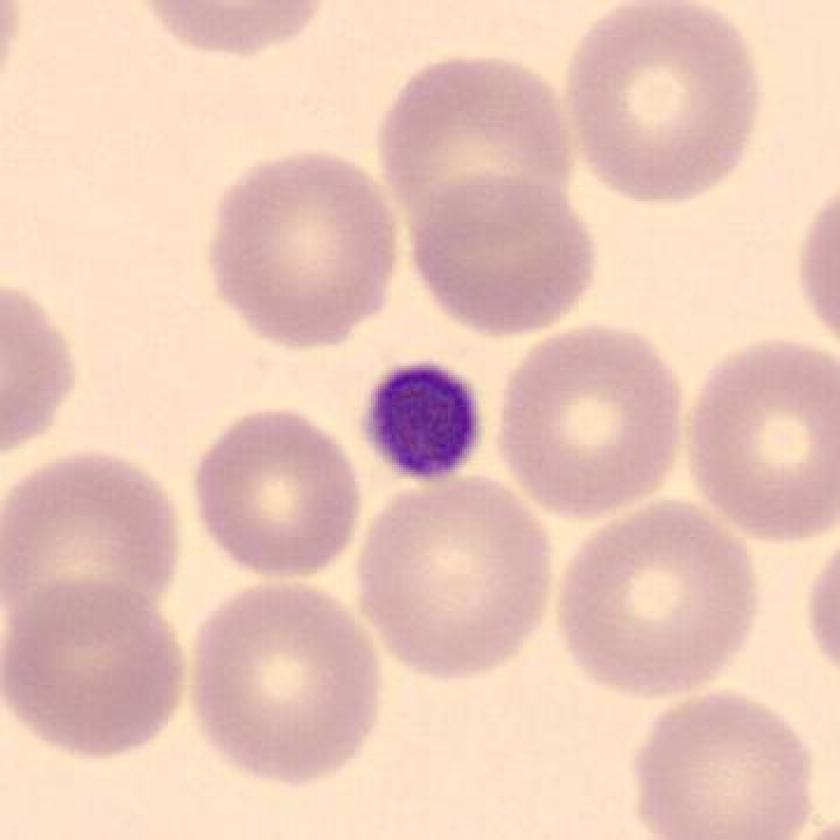platelets: (365, 355, 482, 485)
